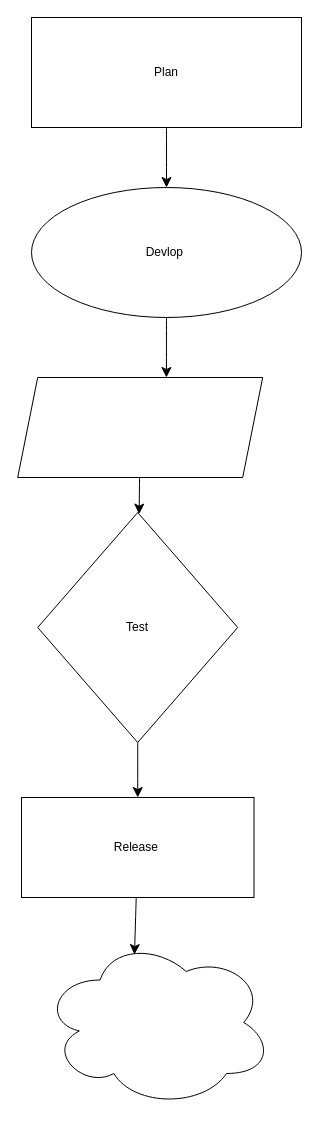
This 319x1125 diagram has some shape labels left out. Here are the shapes that lost their labels. From the top down, the centre of each, then its label:
the point at 140,427: Build
the point at 157,1022: Deploy
